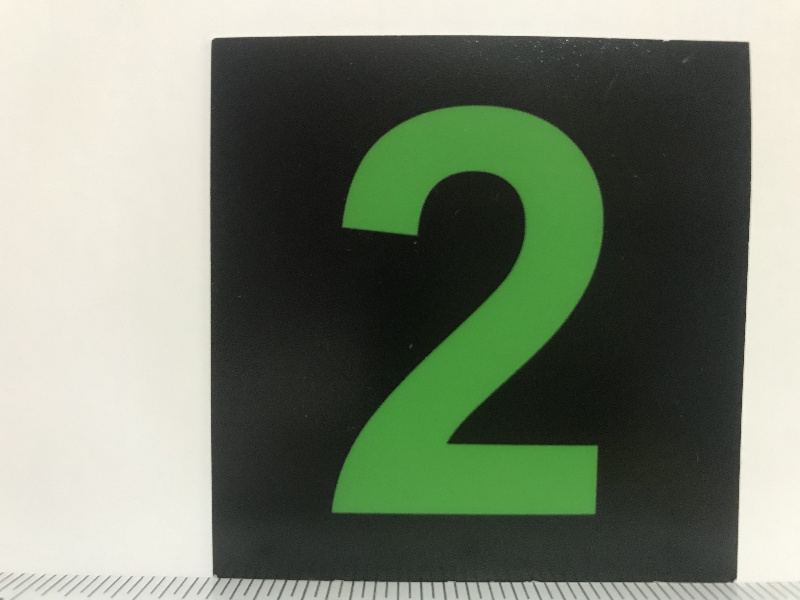Two-7: (217, 45, 733, 576)
